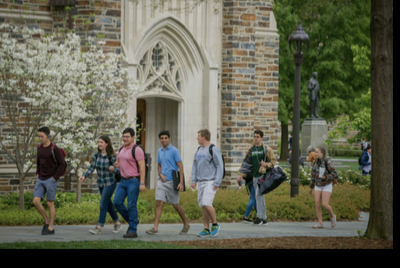without_mask: (121, 132, 131, 143), (36, 132, 46, 143), (158, 134, 167, 146), (96, 138, 105, 149), (252, 133, 259, 143), (195, 132, 201, 143), (313, 148, 319, 157)
